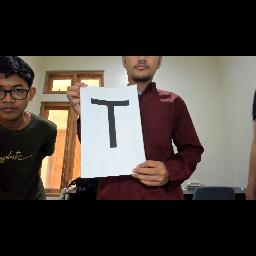t: (88, 95, 138, 155)
